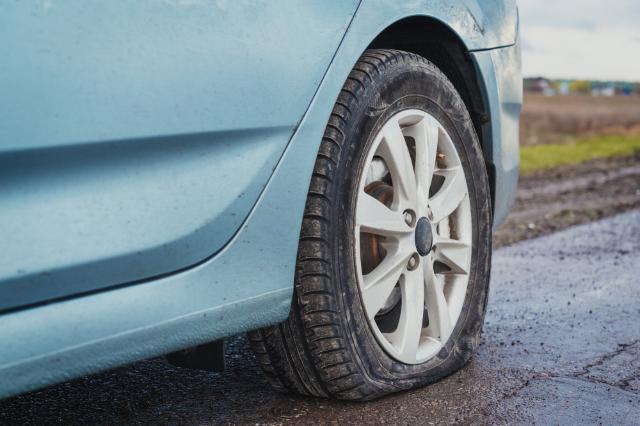tire flat: (248, 48, 492, 403)
